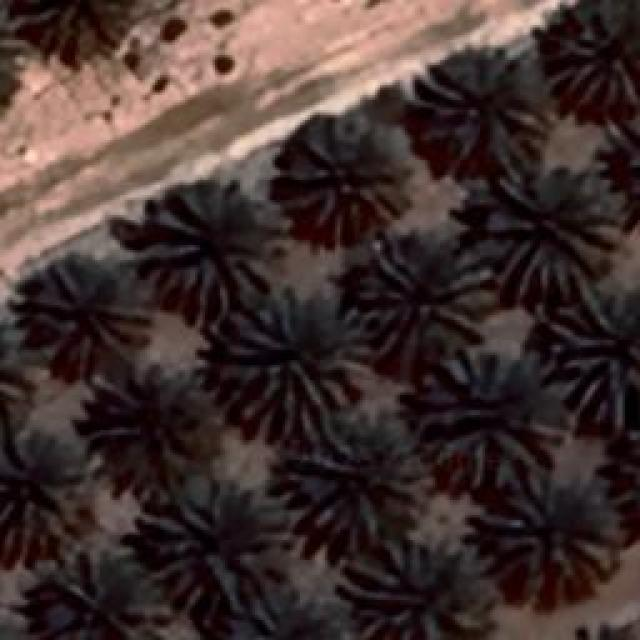PalmTree: (71, 28, 118, 604), (410, 350, 565, 488), (147, 482, 290, 620), (280, 410, 430, 540), (480, 160, 622, 295), (135, 180, 280, 312), (88, 360, 222, 495), (354, 238, 498, 360), (277, 117, 415, 240), (412, 49, 546, 172), (345, 534, 500, 638), (495, 470, 623, 592), (555, 280, 635, 430), (240, 305, 348, 413), (0, 425, 92, 550), (32, 264, 150, 358), (547, 0, 634, 102), (224, 599, 348, 640), (0, 309, 31, 434), (612, 108, 640, 228), (613, 415, 640, 538), (0, 0, 22, 129), (621, 410, 640, 538), (0, 0, 17, 133), (623, 104, 640, 223), (554, 617, 640, 640), (545, 623, 640, 640), (628, 105, 640, 222)
